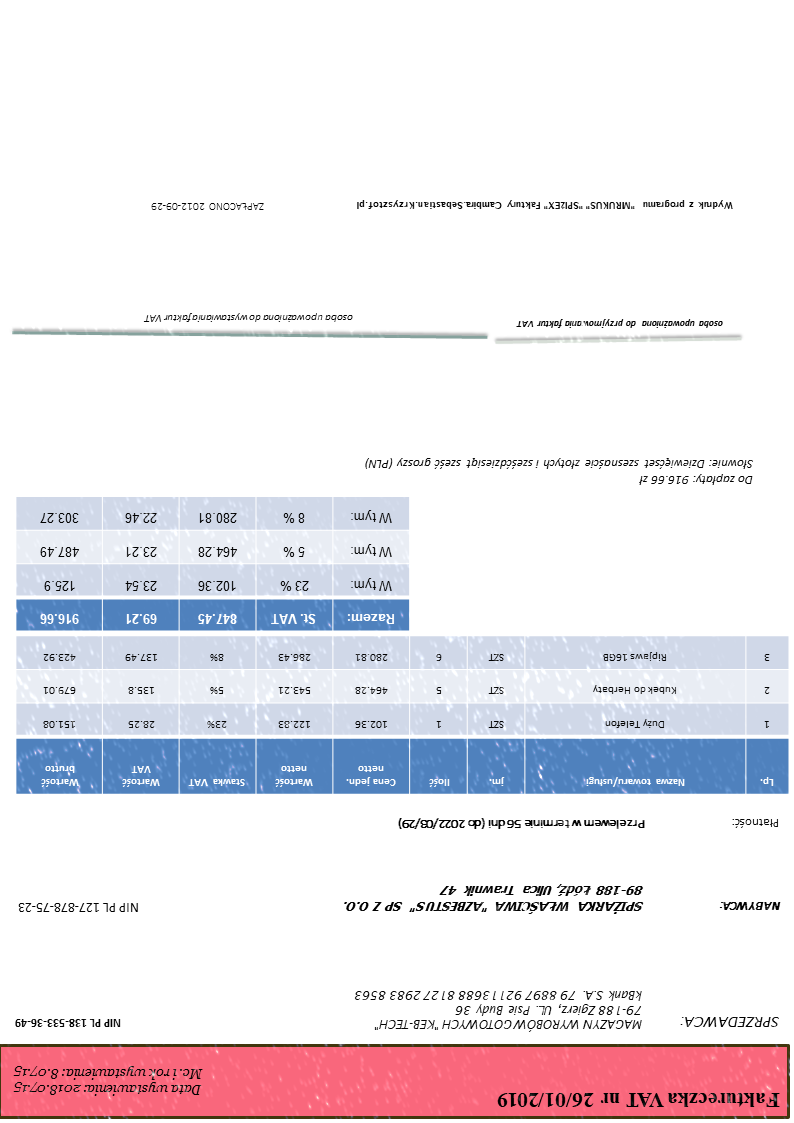Table: (14, 635, 791, 795), (15, 495, 410, 632)
TextBox: (353, 986, 646, 1033), (363, 455, 756, 487), (340, 882, 646, 918), (354, 196, 736, 215), (12, 1063, 205, 1099), (495, 1089, 782, 1113), (398, 815, 648, 832), (142, 311, 358, 327), (514, 316, 726, 332), (19, 899, 144, 918), (13, 1015, 125, 1032), (150, 199, 267, 215), (680, 1013, 783, 1031), (720, 898, 784, 915), (729, 815, 782, 832)
